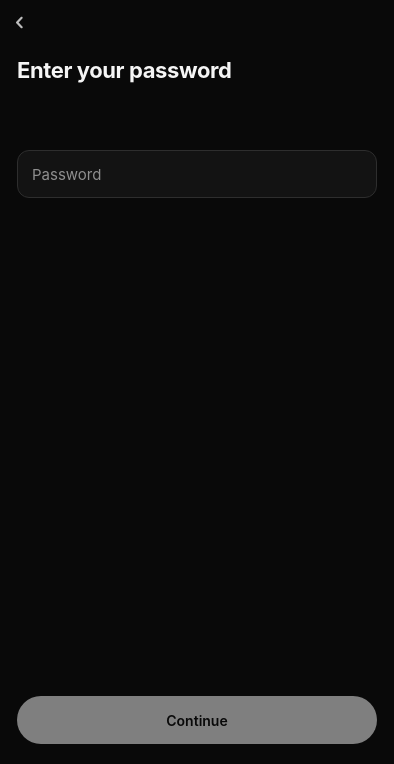
Test case: first backup › hides and drops the words on Hide, then reads them again on Show
Type "pw" into the password field labelled "Password" at (197, 174), box [17,150,377,198]
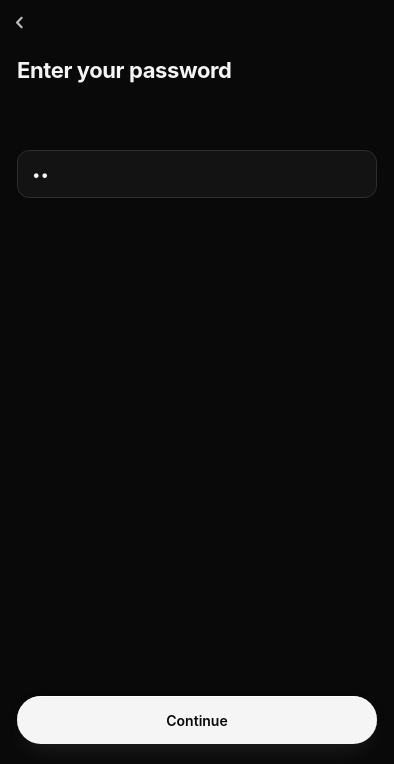
Click the button "Continue" at (197, 720), box [17,696,377,744]
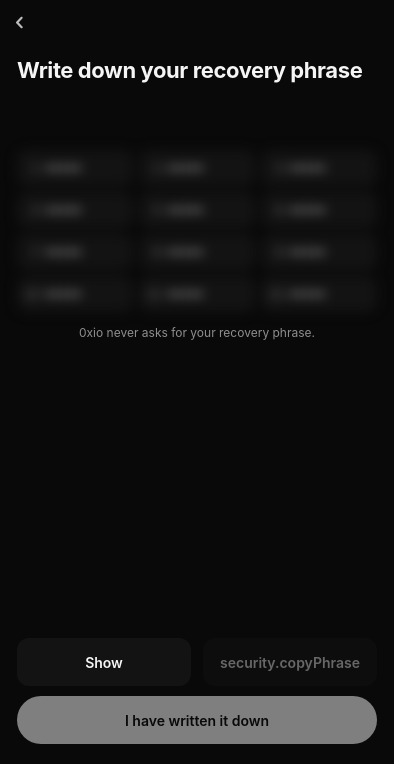
Click the button "Show" at (104, 662), box [17,638,191,686]
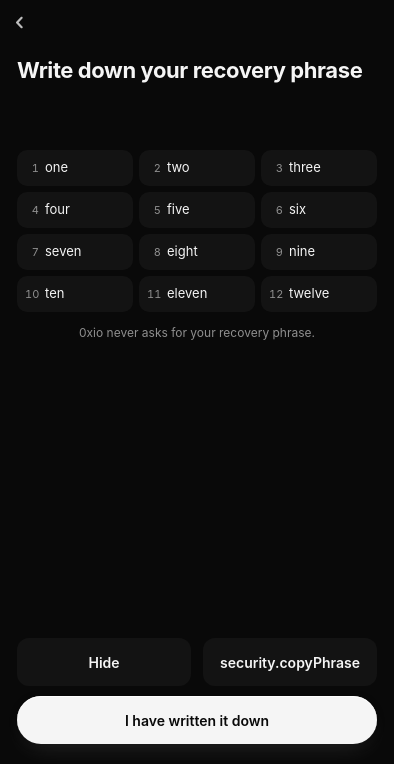
Click the button "Hide" at (104, 662), box [17,638,191,686]
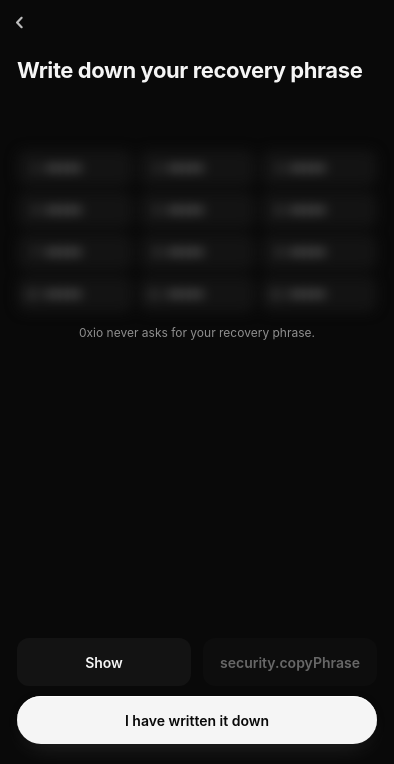
Now the text "seven" is gone
Click the button "Show" at (104, 662), box [17,638,191,686]
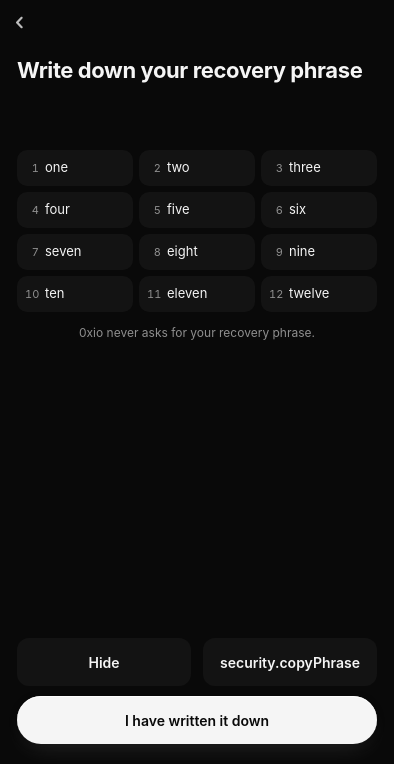
Now the text "seven" is shown, box [45,242,82,262]
